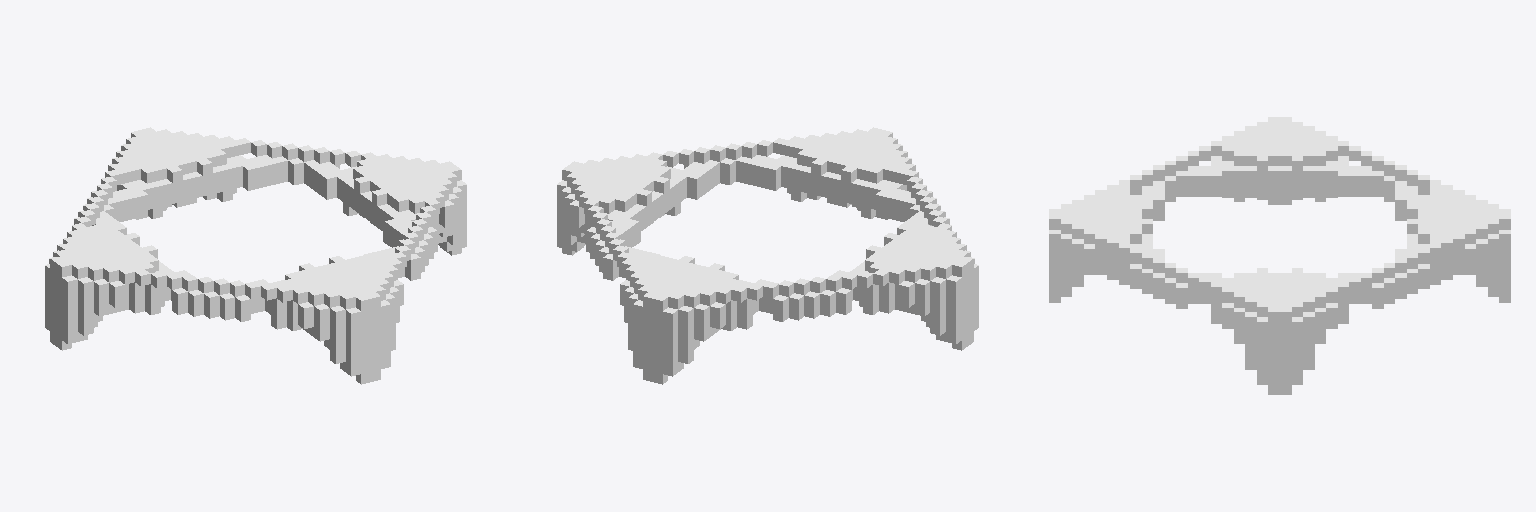
The model's file is spike_moveable_only.obj.
3 renders of one model, left to right at view 1: azimuth 30°, elevation 25°; view 2: azimuth 150°, elevation 25°; view 3: azimuth 270°, elevation 25°, orthographic.
Visible parts, largest first — view 1: object 1; view 2: object 1; view 3: object 1.
Part boxes in pixels (left/top/right/bottom): object 1: left=45, top=127, right=466, bottom=384; object 1: left=557, top=127, right=978, bottom=384; object 1: left=1049, top=117, right=1510, bottom=394.
Bounding box in the file's own units: 4 × 0.8 × 4.